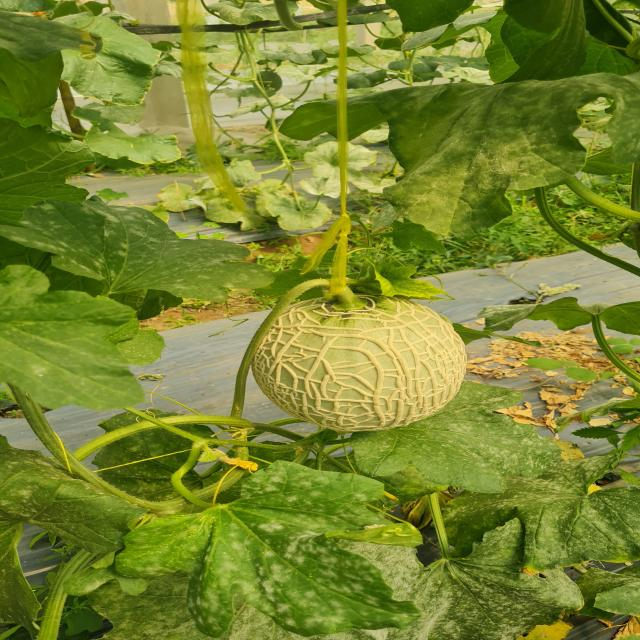melon: (251, 295, 467, 431)
